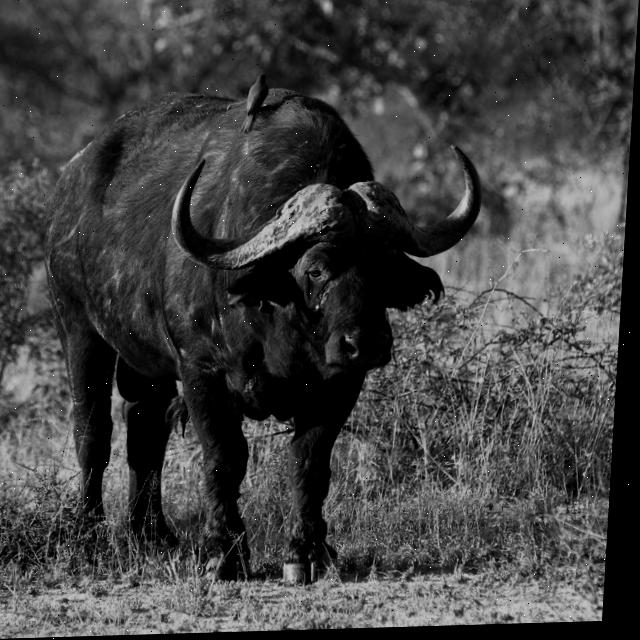Buffalo: (26, 82, 485, 595)
